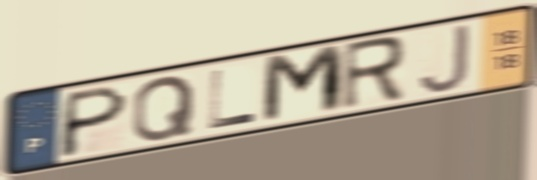J: (415, 21, 472, 96)
L: (206, 66, 261, 132)
M: (259, 41, 348, 128)
P: (54, 82, 132, 161)
Q: (129, 73, 198, 145)
R: (337, 33, 408, 115)
